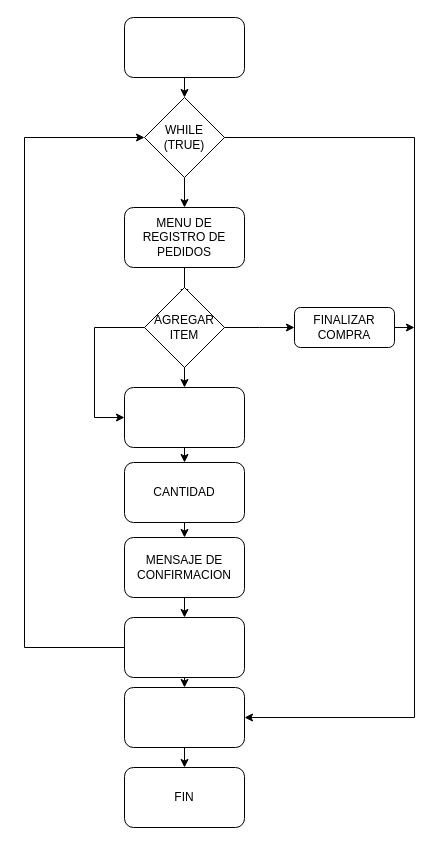
Image size: 440x845. Some labels were removed from this diagram. The centre of each missing label's shape, as x and y in pixels:
ACTUALIZACION LISTA DE PEDIDOS: (x=184, y=647)
ID DEL PRODUCTO: (x=184, y=417)
INICIO: (x=184, y=47)
RESUMEN FINAL: (x=184, y=717)
